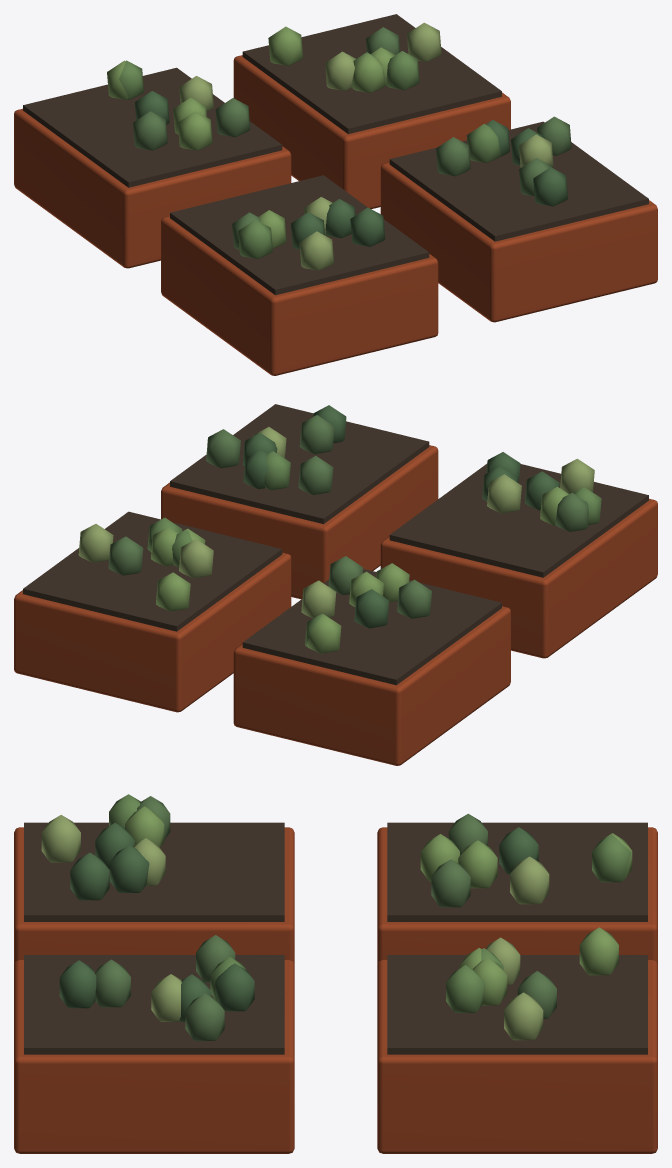
File: corten_beds.glb
3 renders of one model, top to bottom at view 1: azimuth 30°, elevation 25°; view 2: azimuth 150°, elevation 25°; view 3: azimuth 270°, elevation 25°, orthographic. The views are drawn at different scales.
Visible parts, largest first — view 1: Corten vyvýšený záhon.002, Corten vyvýšený záhon.003, Corten vyvýšený záhon, Corten vyvýšený záhon.001, Substrát, Substrát.003, Substrát.001, Substrát.002, Zelenina, Zelenina.031, Zelenina.006, Zelenina.016 (+22 smaller); view 2: Corten vyvýšený záhon, Corten vyvýšený záhon.001, Corten vyvýšený záhon.002, Corten vyvýšený záhon.003, Substrát.002, Substrát.001, Substrát.003, Substrát, Zelenina.027, Zelenina.010, Zelenina, Zelenina.029 (+22 smaller); view 3: Corten vyvýšený záhon.001, Corten vyvýšený záhon.003, Substrát.001, Substrát.002, Substrát.003, Substrát, Corten vyvýšený záhon.002, Corten vyvýšený záhon, Zelenina.006, Zelenina.015, Zelenina.011, Zelenina.001 (+24 smaller).
Part boxes in pixels (x1,y1,x2,y2): Corten vyvýšený záhon.002: [161, 216, 438, 375]; Corten vyvýšený záhon.003: [380, 162, 657, 322]; Corten vyvýšený záhon: [14, 108, 291, 268]; Corten vyvýšený záhon.001: [233, 55, 510, 209]; Substrát: [23, 67, 282, 187]; Substrát.003: [389, 121, 648, 241]; Substrát.001: [242, 14, 501, 134]; Substrát.002: [170, 175, 429, 295]; Zelenina: [133, 111, 167, 150]; Zelenina.031: [533, 167, 567, 206]; Zelenina.006: [215, 98, 250, 137]; Zelenina.016: [299, 231, 334, 270]; Corten vyvýšený záhon: [233, 606, 510, 765]; Corten vyvýšený záhon.001: [14, 552, 291, 712]; Corten vyvýšený záhon.002: [380, 498, 657, 658]; Corten vyvýšený záhon.003: [161, 445, 438, 599]; Substrát.002: [389, 463, 648, 577]; Substrát.001: [23, 511, 282, 631]; Substrát.003: [170, 404, 429, 524]; Substrát: [242, 569, 501, 685]; Zelenina.027: [299, 415, 334, 454]; Zelenina.010: [179, 539, 213, 578]; Zelenina: [397, 579, 431, 618]; Zelenina.029: [206, 429, 240, 468]; Corten vyvýšený záhon.001: [377, 960, 657, 1153]; Corten vyvýšený záhon.003: [14, 960, 294, 1153]; Substrát.001: [387, 955, 647, 1054]; Substrát.002: [24, 822, 284, 921]; Substrát.003: [24, 955, 284, 1054]; Substrát: [387, 822, 647, 921]; Corten vyvýšený záhon.002: [14, 827, 294, 964]; Corten vyvýšený záhon: [377, 827, 657, 964]; Zelenina.006: [431, 859, 470, 907]; Zelenina.015: [579, 927, 618, 975]; Zelenina.011: [504, 992, 543, 1040]; Zelenina.001: [510, 856, 549, 904].
Size of the model in its own units: 3.35 by 0.975 by 3.9.
